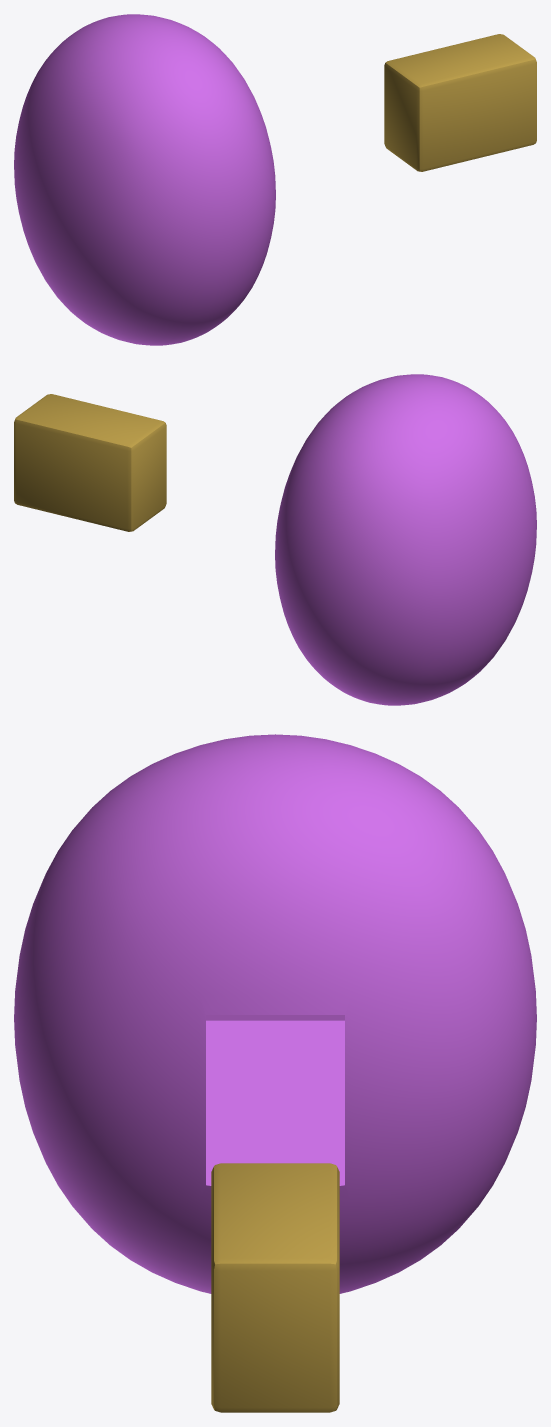
File: chapter-1-section-6-induced-fit.glb
3 renders of one model, top to bottom at view 1: azimuth 30°, elevation 25°; view 2: azimuth 150°, elevation 25°; view 3: azimuth 270°, elevation 25°, orthographic. The views are drawn at different scales.
Visible parts, largest first — view 1: Cube, Cube.001; view 2: Cube, Cube.001; view 3: Cube, Cube.001.
Boxes of the visible parts, <box> form: Cube: <box>14,14,275,345</box>; Cube.001: <box>384,34,536,171</box>; Cube: <box>275,374,536,705</box>; Cube.001: <box>14,394,166,531</box>; Cube: <box>14,734,536,1293</box>; Cube.001: <box>211,1163,339,1412</box>.
Size of the model in its own units: 2.76 by 1.68 by 1.49.
Materials: 2 (1 with a texture image).
